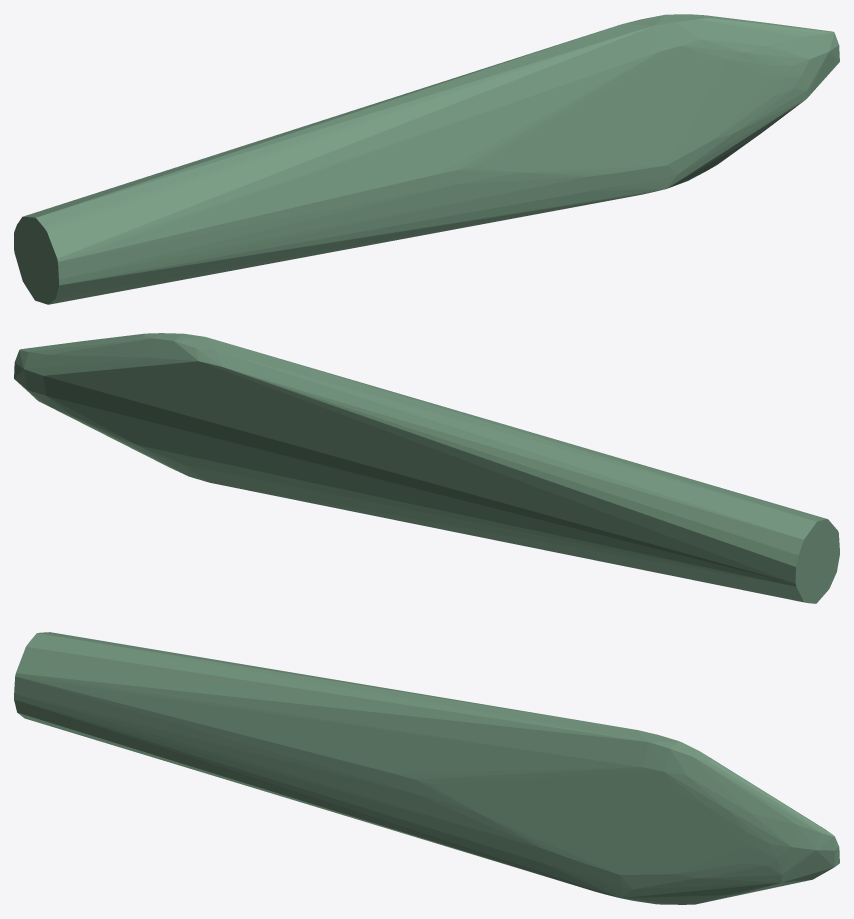
3 views of the same model, one above another, from view 1: azimuth 30°, elevation 25°; view 2: azimuth 150°, elevation 25°; view 3: azimuth 330°, elevation 25° (orthographic).
Bounding box in the file's own units: 0.0709 × 0.0127 × 0.00684.
